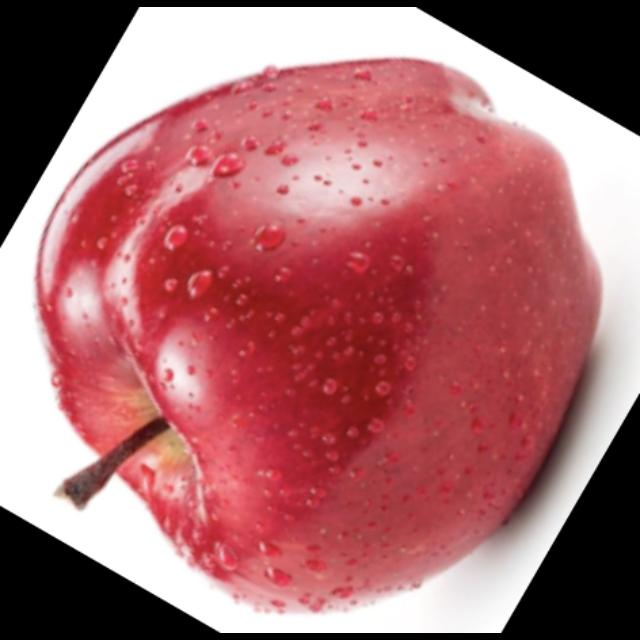Apel Segar: (56, 58, 640, 592)
